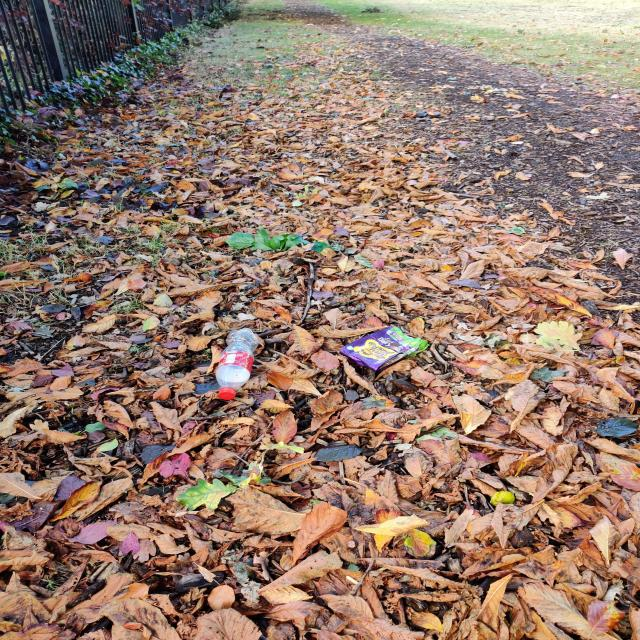litter: (337, 326, 430, 374), (216, 328, 259, 400)
